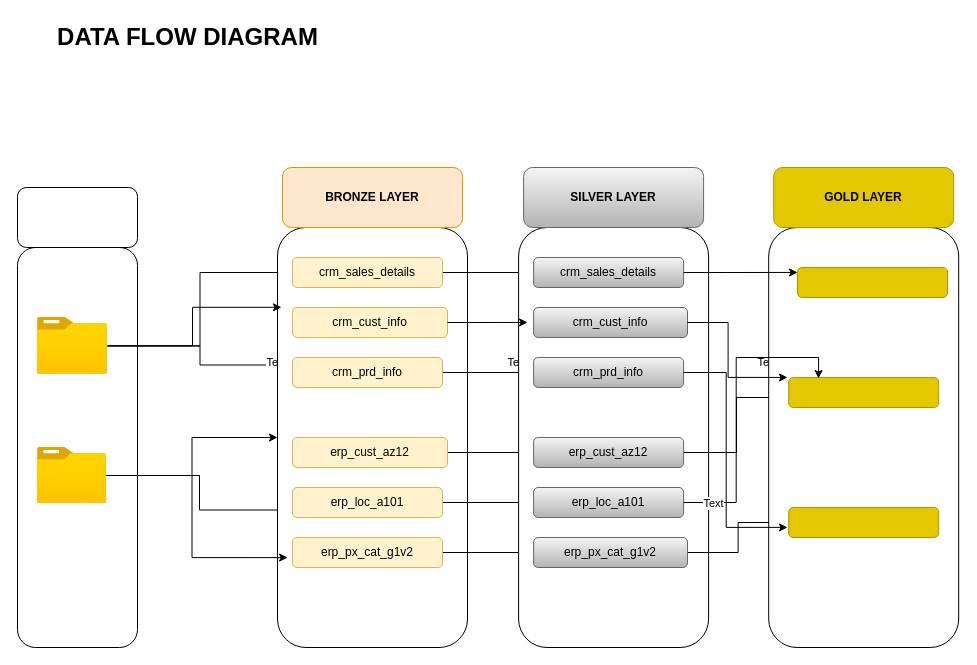
Some shapes in this 977 by 665 pixel diagram are drawn without their labels. Here are the shapes that lost their labels. From the top down, the box of each, then its label:
(16, 186, 138, 248): SOURCES
(796, 266, 948, 298): fact_sales
(37, 317, 107, 374): CRM
(788, 376, 939, 408): dim_customers
(37, 447, 106, 503): ERP
(788, 506, 939, 538): dim_products
